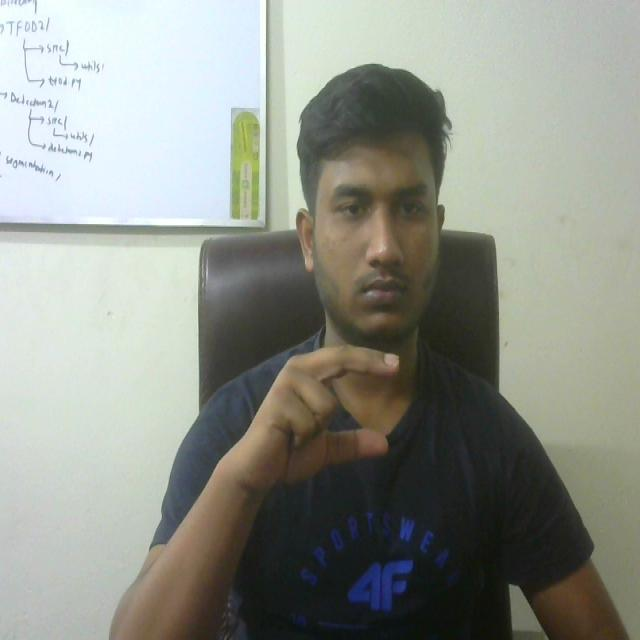No: (232, 338, 409, 497)
